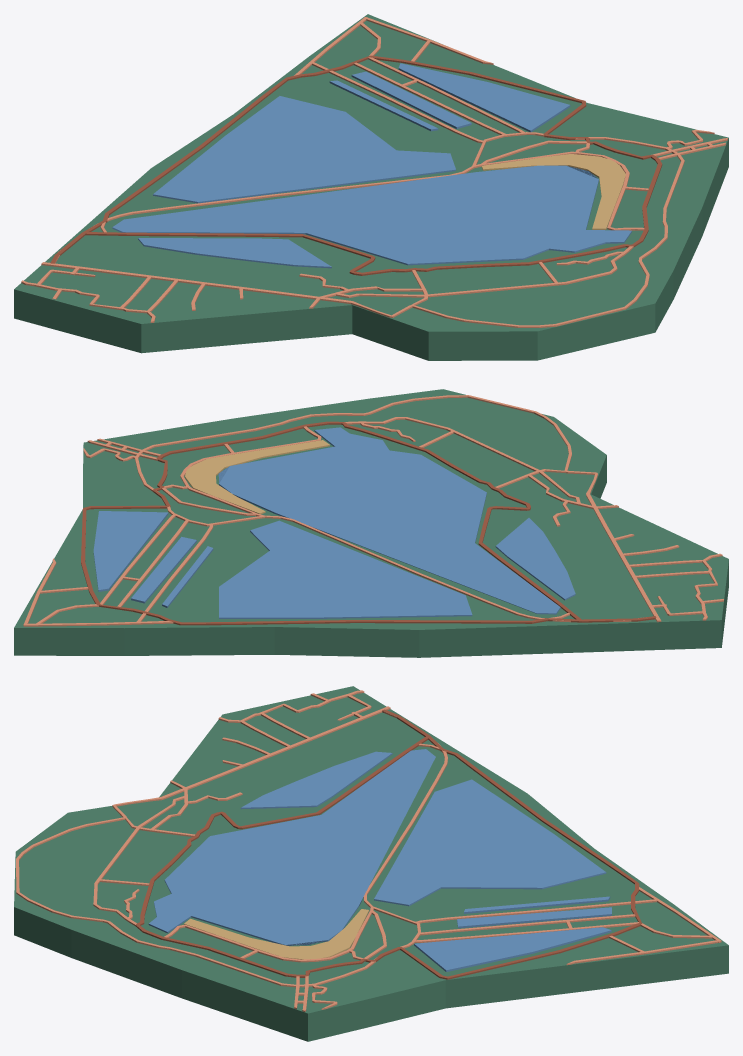
The model's file is MapZuiderbadV3.glb.
3 views of the same model, one above another, from view 1: azimuth 30°, elevation 25°; view 2: azimuth 150°, elevation 25°; view 3: azimuth 270°, elevation 25° (orthographic). The views are drawn at different scales.
Parts seen in each view (by area): view 1: base.001, water.007, water.008, walk, path.007, water.011, water.009, beach.001, water.012, Cube.018, Cube.010, Cube.001 (+4 smaller); view 2: base.001, water.007, water.008, walk, path.007, water.011, water.009, beach.001, water.012, Cube.018, Cube.010, water.013 (+4 smaller); view 3: base.001, water.007, water.008, walk, path.007, water.011, water.009, beach.001, water.012, Cube.010, Cube.001, Cube.018 (+3 smaller).
Part boxes in pixels (x1,y1,x2,y2): base.001: [14, 14, 728, 360]; water.007: [112, 165, 631, 265]; water.008: [153, 96, 455, 203]; walk: [50, 55, 662, 275]; path.007: [41, 132, 684, 327]; water.011: [398, 63, 570, 132]; water.009: [138, 238, 331, 268]; beach.001: [481, 154, 625, 229]; water.012: [351, 71, 471, 128]; Cube.018: [335, 246, 633, 297]; Cube.010: [480, 151, 644, 230]; Cube.001: [310, 62, 483, 143]; base.001: [14, 389, 728, 657]; water.007: [218, 427, 560, 614]; water.008: [219, 520, 472, 618]; walk: [81, 421, 656, 625]; path.007: [135, 395, 661, 622]; water.011: [93, 511, 168, 591]; water.009: [495, 518, 575, 600]; beach.001: [185, 440, 329, 514]; water.012: [131, 536, 196, 603]; Cube.018: [344, 417, 580, 503]; Cube.010: [180, 426, 321, 514]; water.013: [162, 546, 213, 607]; base.001: [14, 686, 728, 1041]; water.007: [148, 749, 435, 945]; water.008: [374, 779, 606, 906]; walk: [135, 709, 642, 979]; path.007: [16, 706, 447, 987]; water.011: [414, 927, 611, 971]; water.009: [240, 751, 392, 809]; beach.001: [184, 909, 369, 959]; water.012: [457, 907, 611, 928]; Cube.010: [164, 910, 372, 962]; Cube.001: [416, 899, 658, 923]; Cube.018: [93, 796, 187, 925].
Size of the model in its own units: 14.23 by 0.6114 by 13.13.
